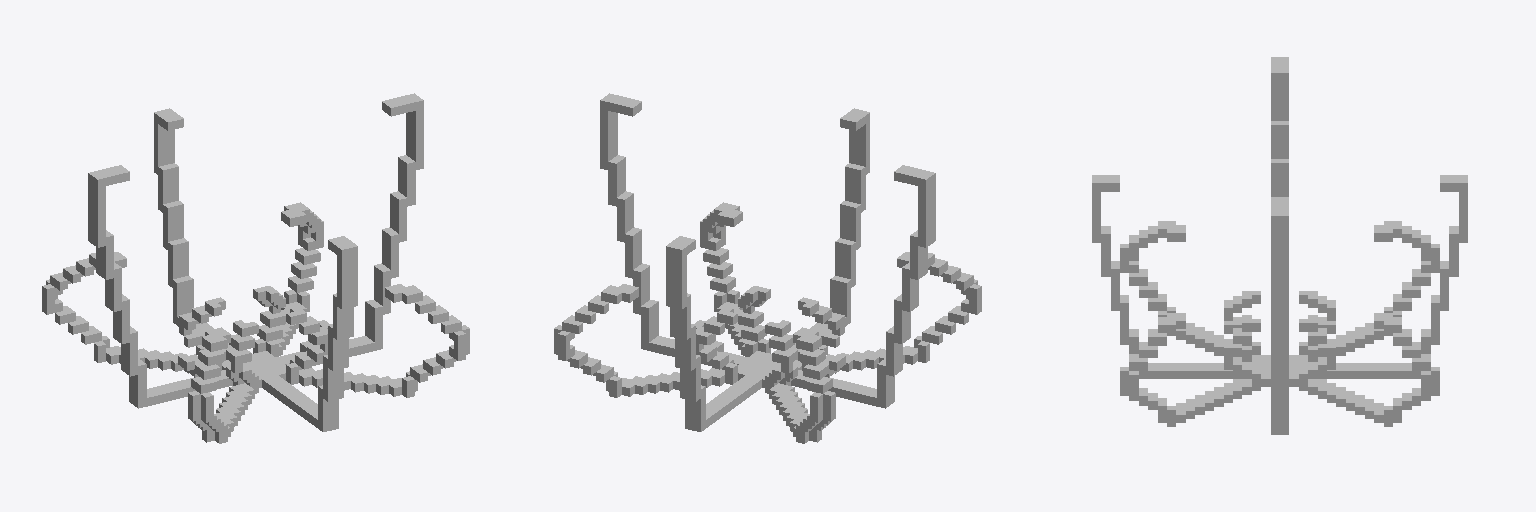
File: Planta desierto.obj
3 views of the same model, side by side, from view 1: azimuth 30°, elevation 25°; view 2: azimuth 150°, elevation 25°; view 3: azimuth 270°, elevation 25° (orthographic).
Parts seen in each view (by area): view 1: object 1; view 2: object 1; view 3: object 1.
Part boxes in pixels (x1,y1,x2,y2): object 1: (42,93,469,443); object 1: (554,93,981,443); object 1: (1092,57,1467,434).
Size of the model in its own units: 4 by 2.8 by 4.